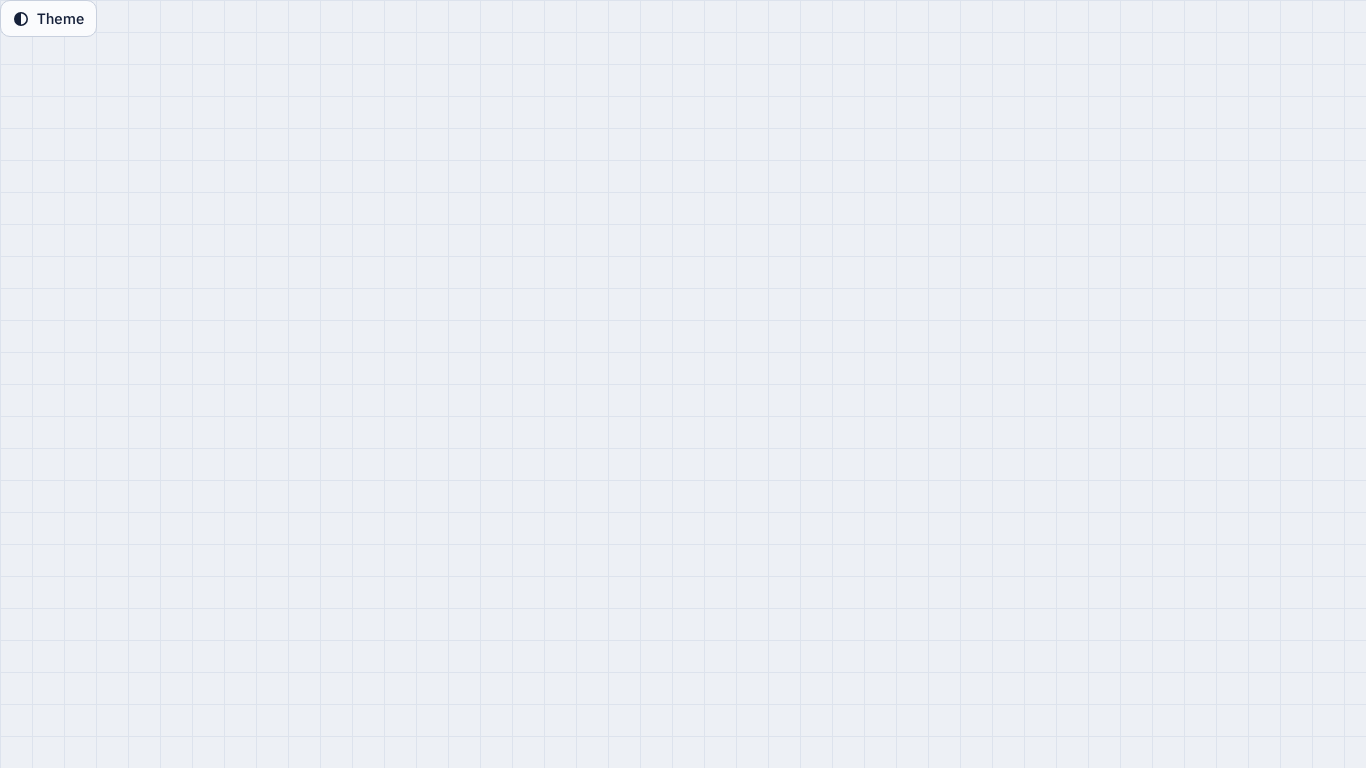
Test case: ThemeToggle › switches the theme, stores it and updates aria-pressed on click
Click the button: (49, 19) [0,0,97,37]
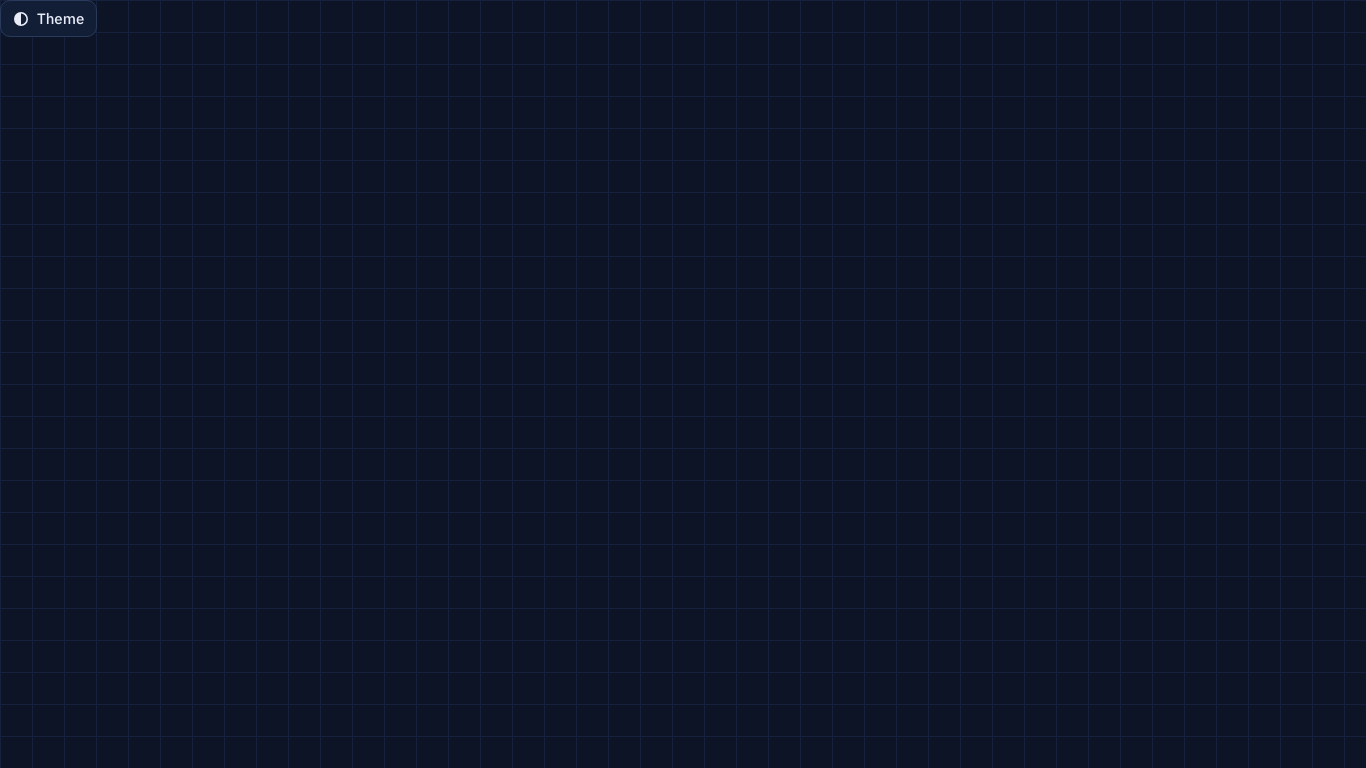
Now the button is pressed
Click the button: (49, 19) [0,0,97,37]
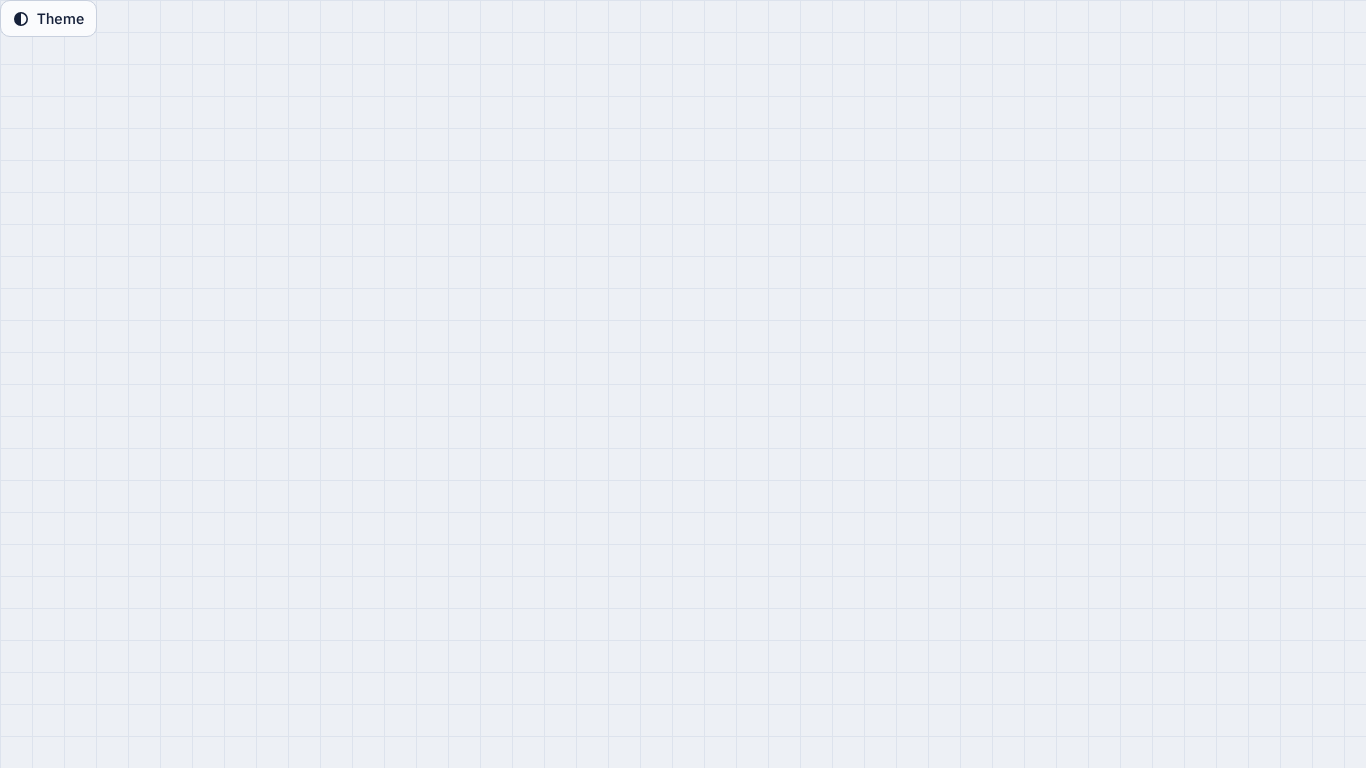
Now the button is not pressed, box [0,0,97,37]
